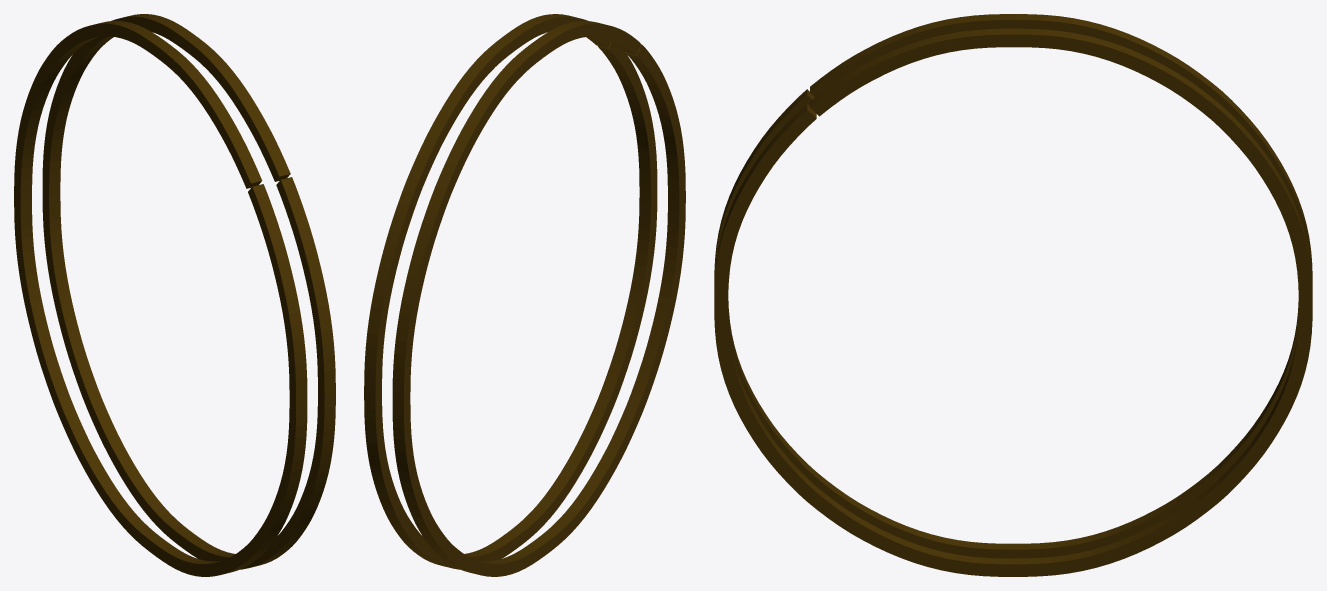
Rendered from Rail_just_ring.fbx.
3 views of the same model, side by side, from view 1: azimuth 30°, elevation 25°; view 2: azimuth 150°, elevation 25°; view 3: azimuth 270°, elevation 25° (orthographic). The views are drawn at different scales.
Visible parts, largest first — view 1: Cube_side_thick_nurvcicle; view 2: Cube_side_thick_nurvcicle; view 3: Cube_side_thick_nurvcicle.
Boxes of the visible parts, x1,y1,x2,y2 form: Cube_side_thick_nurvcicle: (14, 14, 335, 576); Cube_side_thick_nurvcicle: (364, 14, 685, 576); Cube_side_thick_nurvcicle: (714, 14, 1312, 576).
Size of the model in its own units: 83.36 by 1024 by 1024.
